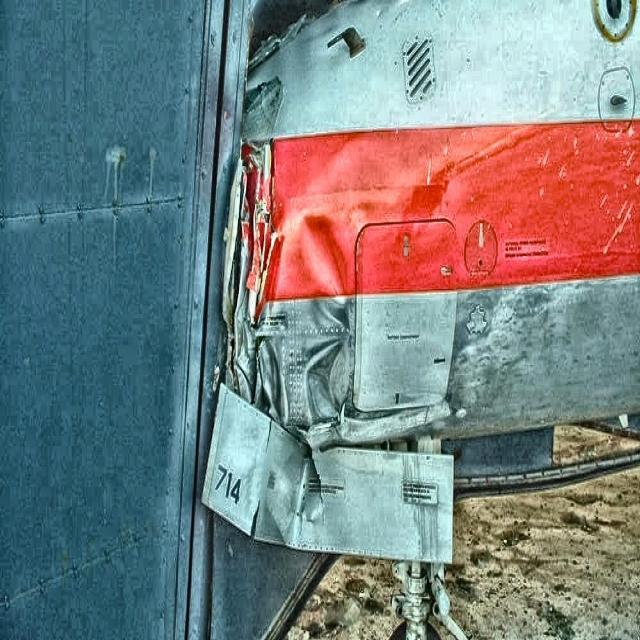dent: (298, 213, 356, 438)
